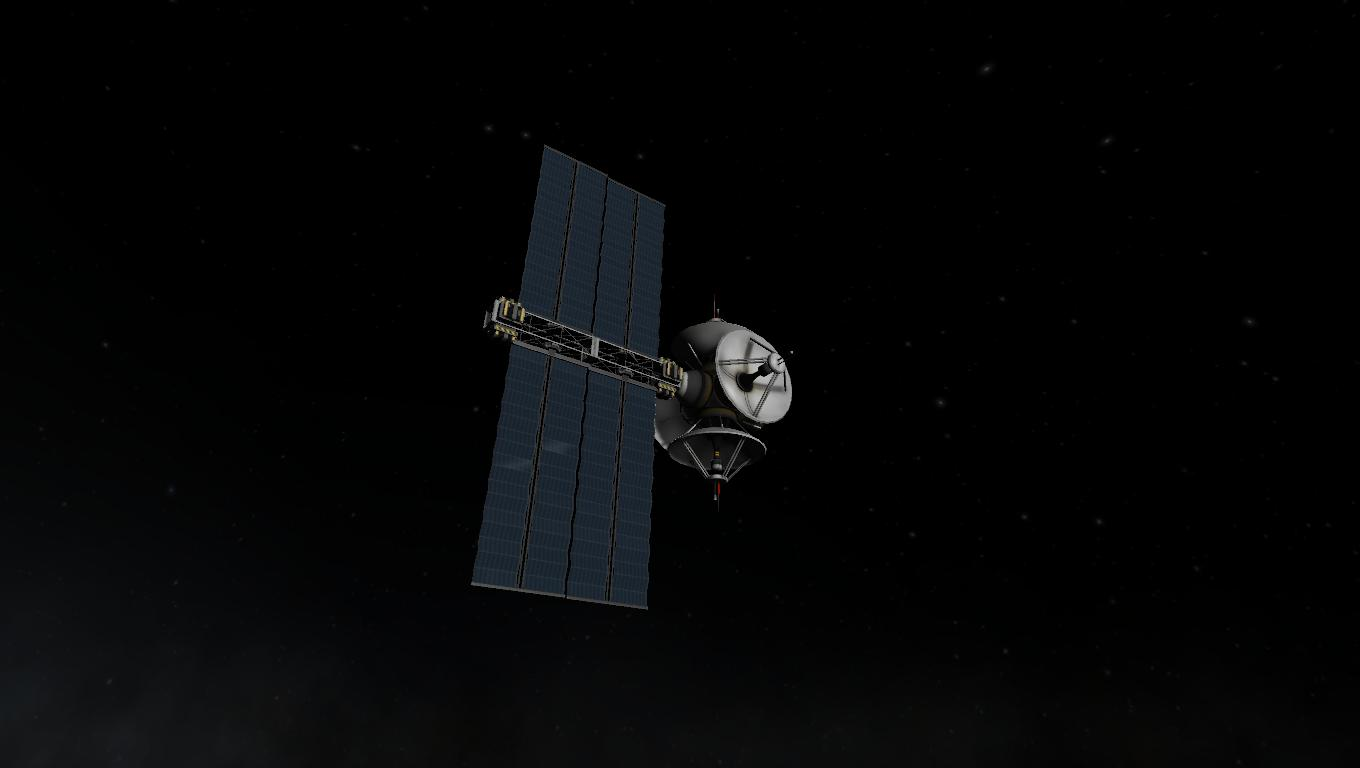antenna: (664, 424, 770, 513), (713, 328, 797, 428), (668, 290, 756, 363)
solar: (468, 338, 660, 612), (514, 142, 668, 360)
